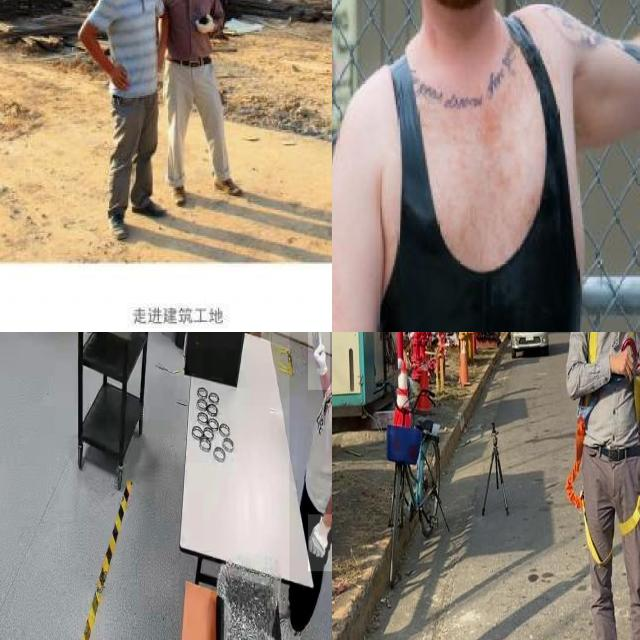Harness: (566, 416, 611, 566), (620, 492, 640, 536)
hand_glove: (308, 514, 332, 572), (308, 332, 330, 389)
hand_noglove: (107, 59, 134, 94)
person: (334, 0, 618, 332), (83, 0, 164, 242), (152, 0, 246, 206), (289, 332, 332, 640)
shoes: (105, 206, 134, 245), (129, 192, 166, 219), (211, 173, 243, 200), (167, 180, 193, 210)
